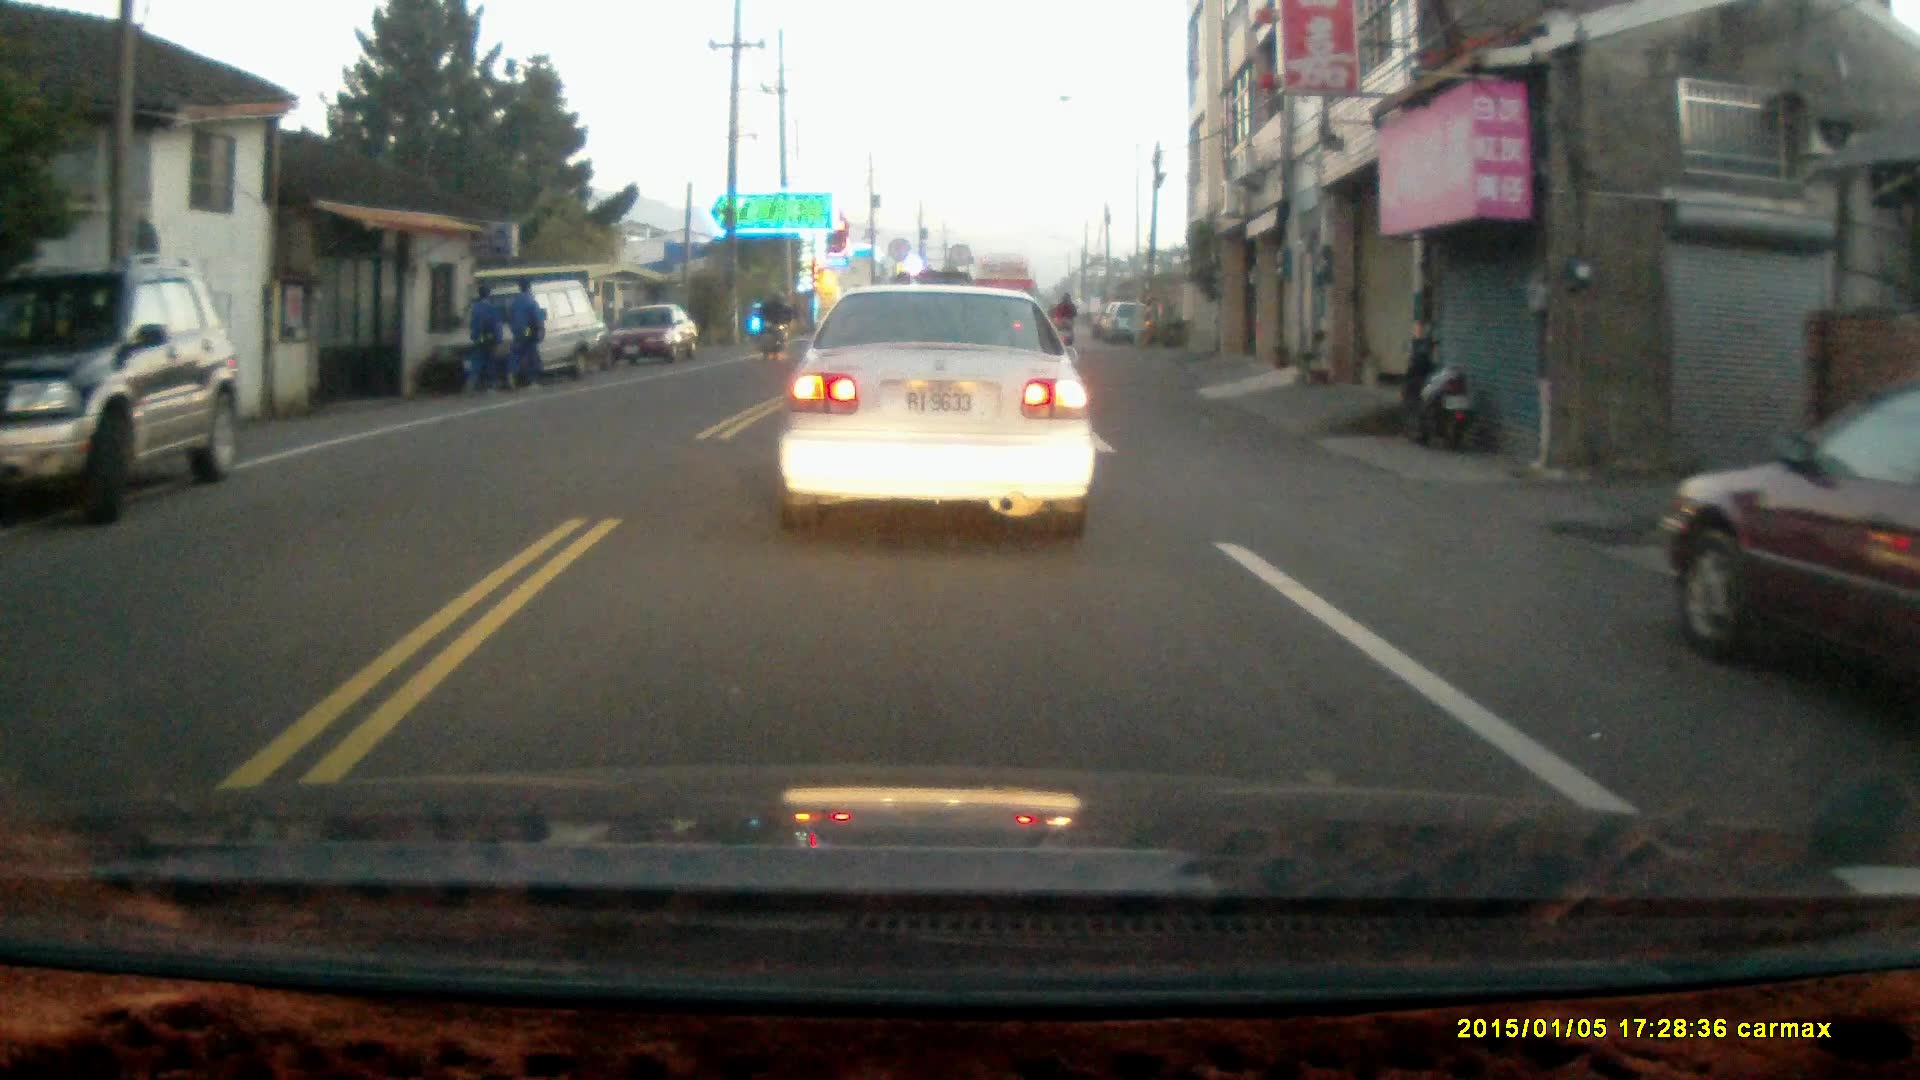pedestrian: (463, 279, 503, 402), (505, 275, 542, 395)
rider: (752, 292, 788, 357)
vehicle: (1662, 404, 1920, 730), (778, 280, 1104, 537), (1, 262, 248, 530), (463, 278, 612, 382), (602, 303, 703, 363)
